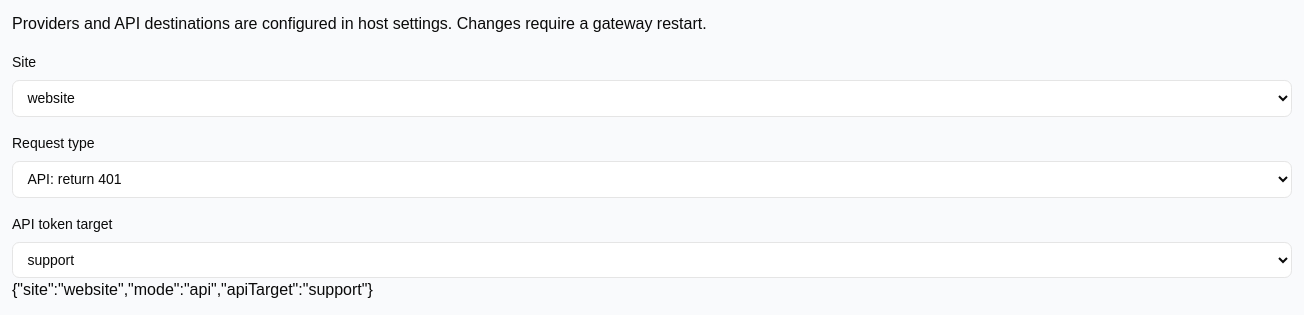
clears API credentials when changing a route to page mode
Select "Page: redirect to login" in the dropdown labelled "Request type" at (652, 179), box top-left (12, 161), bottom-right (1292, 198)
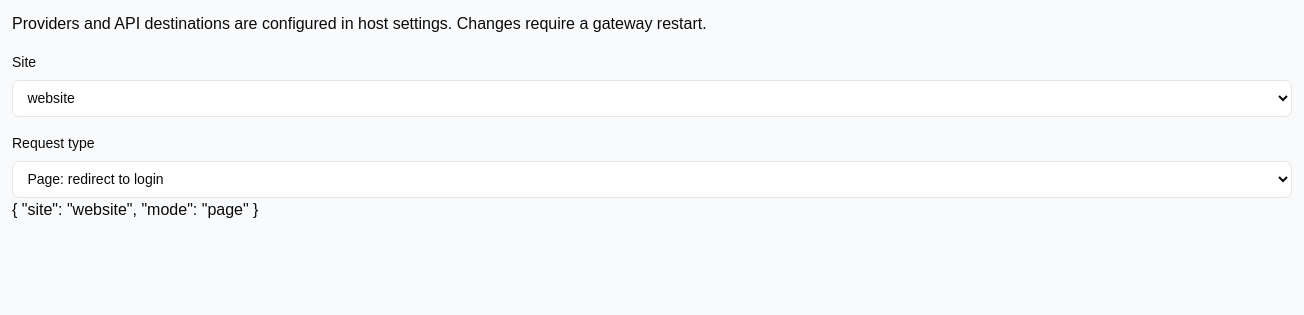
Result: the label labelled "API token target" is gone
Result: the text "{ \"site\": \"website\", \"mode\": \"page\" }" no longer shows "apiTarget" at top-left (12, 201), bottom-right (258, 218)
